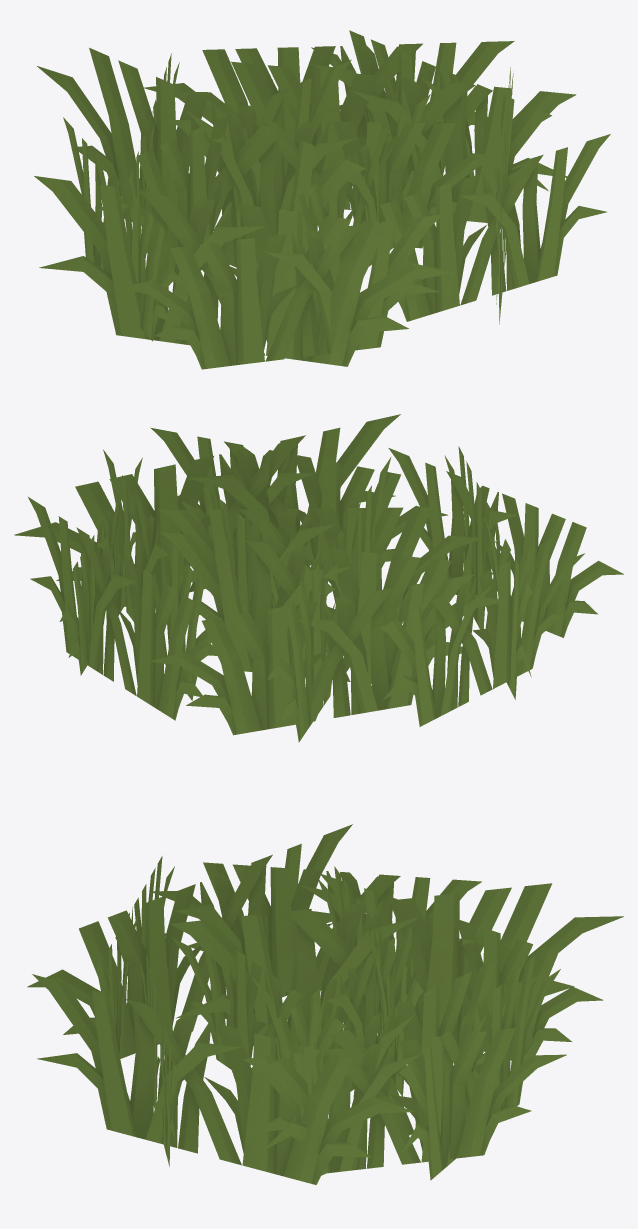
Rendered from SM_Env_Grass_Med_Clump_03.fbx.
3 views of the same model, one above another, from view 1: azimuth 30°, elevation 25°; view 2: azimuth 150°, elevation 25°; view 3: azimuth 270°, elevation 25° (orthographic). The views are drawn at different scales.
Visible parts, largest first — view 1: SM_Env_Grass_Med_Clump_03_LOD0; view 2: SM_Env_Grass_Med_Clump_03_LOD0; view 3: SM_Env_Grass_Med_Clump_03_LOD0.
Part boxes in pixels (x1,y1,x2,y2): SM_Env_Grass_Med_Clump_03_LOD0: [34, 30, 610, 369]; SM_Env_Grass_Med_Clump_03_LOD0: [14, 414, 623, 742]; SM_Env_Grass_Med_Clump_03_LOD0: [27, 824, 623, 1184].
Size of what is drawn, in the model's own units: 172 by 51.02 by 173.
